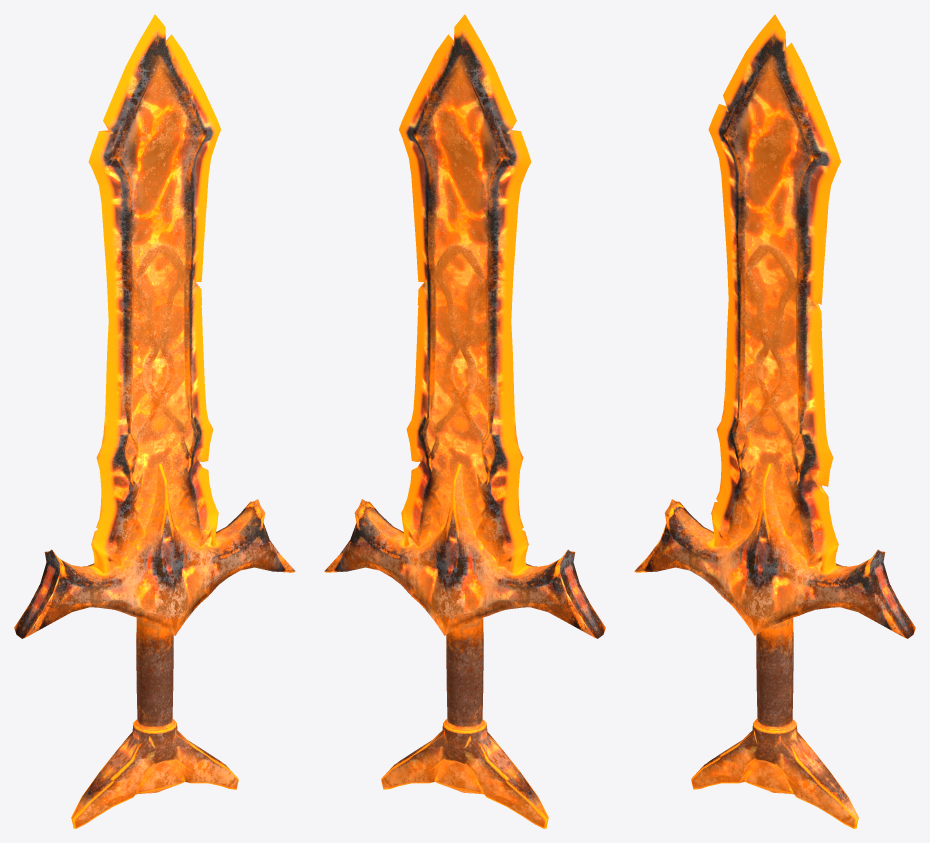
Rendered from Sword1 1.fbx.
3 renders of one model, left to right at view 1: azimuth 30°, elevation 25°; view 2: azimuth 150°, elevation 25°; view 3: azimuth 330°, elevation 25°, orthographic.
Visible parts, largest first — view 1: Top; view 2: Top; view 3: Top.
Boxes of the visible parts, x1,y1,x2,y2 form: Top: (14, 14, 295, 828); Top: (324, 14, 605, 828); Top: (634, 14, 915, 828).
Size of the model in its own units: 0.9484 by 2.65 by 0.2472.
1 material, 1 textured.
